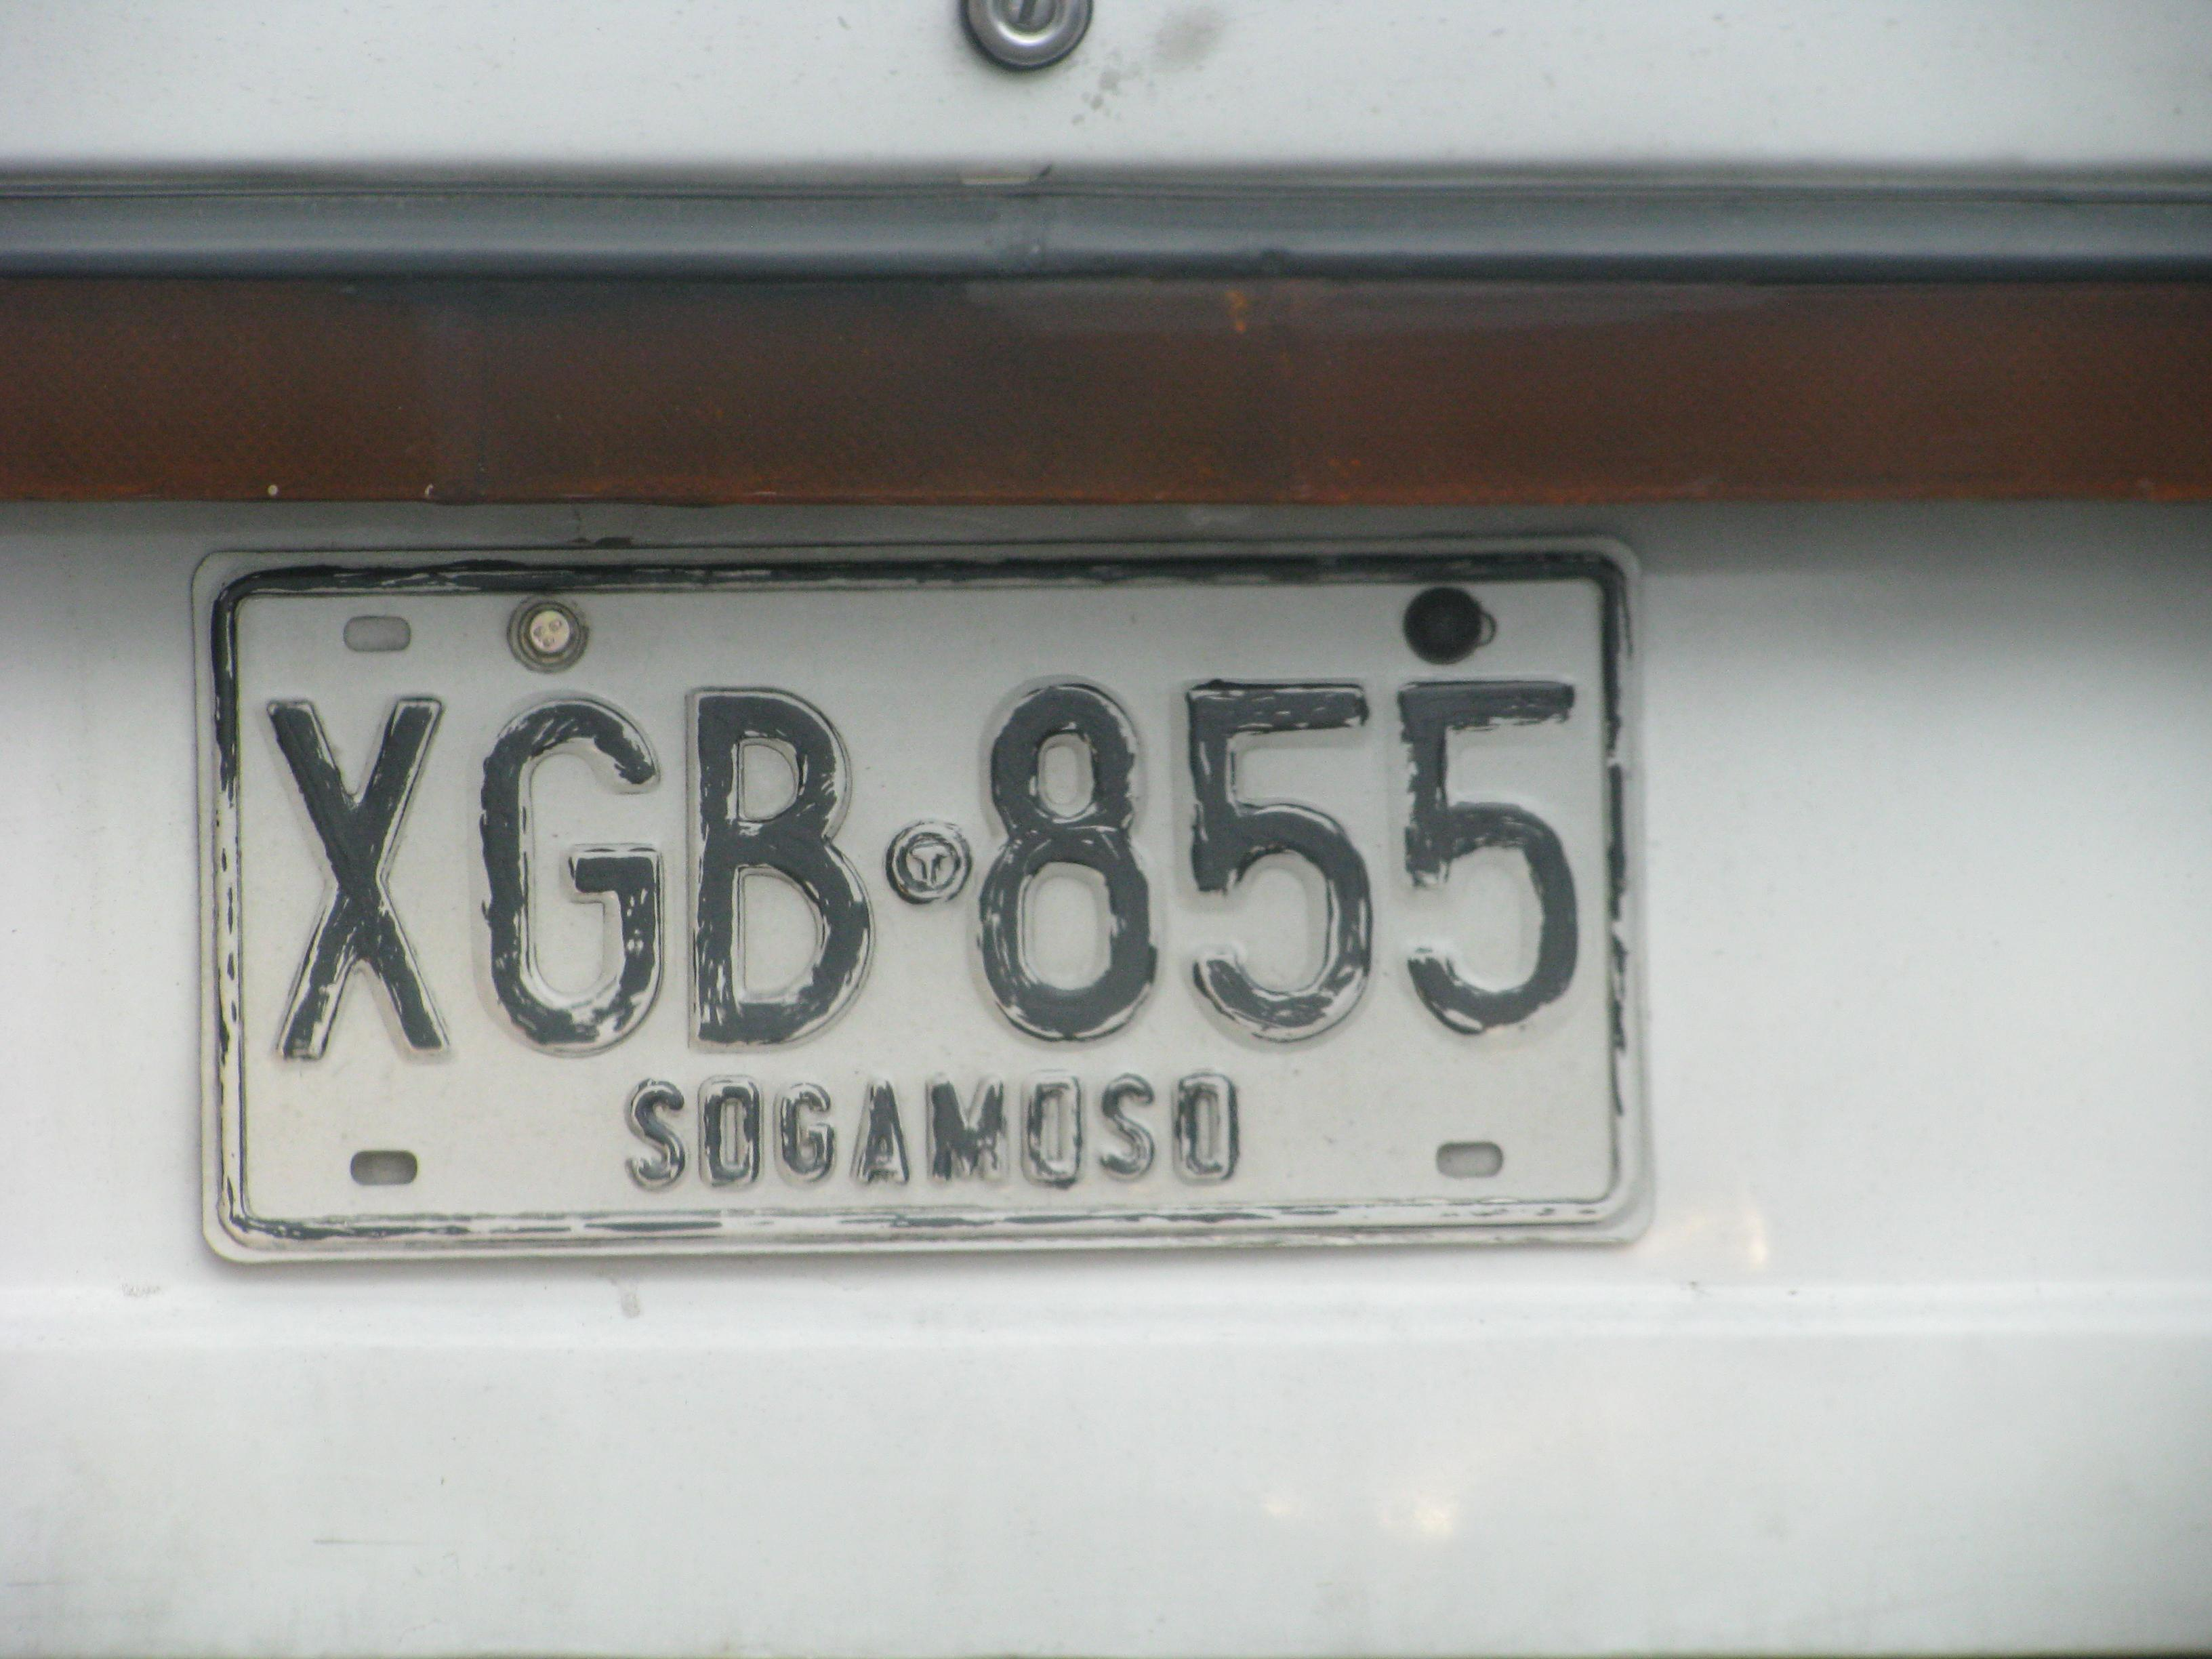placas: (180, 527, 1668, 1271)
